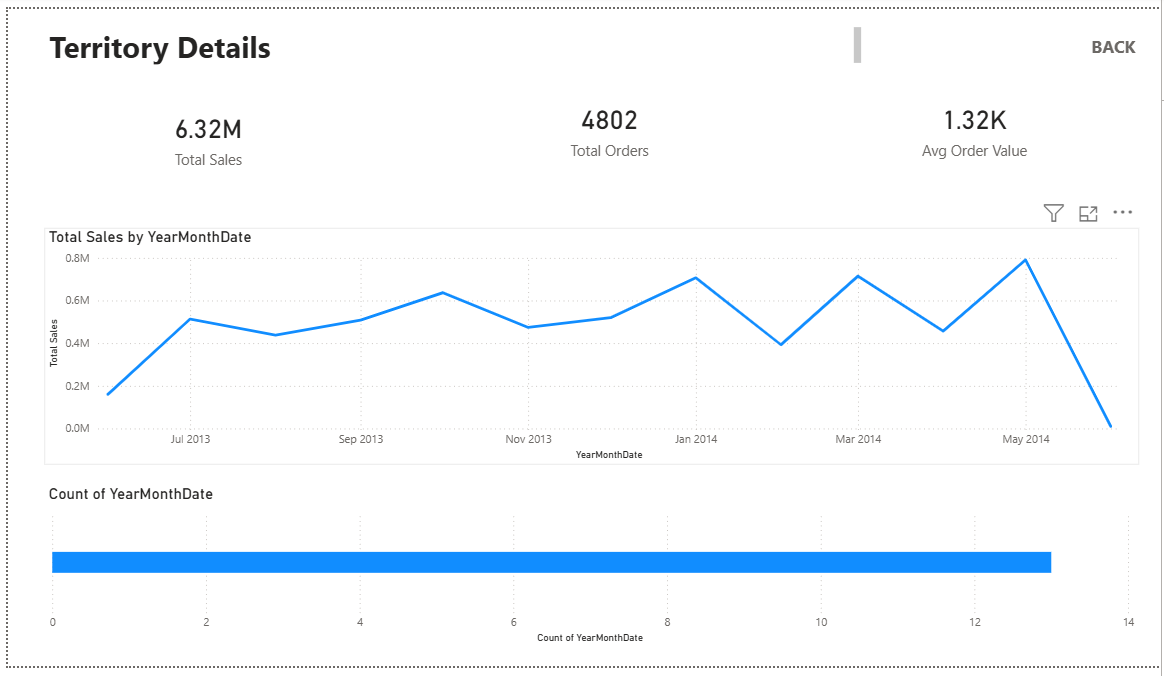

The page's visual inventory and layout, read from the dashboard file:
{"tool":"powerbi","page":{"name":"Territory Details","canvas":[1280,720],"ordinal":1},"visuals":[{"type":"actionButton","box":[1139.7,20.5,100,39.7],"z":0},{"type":"card","fields":{"Values":["Query1.Total Sales"]},"box":[40,75.5,360,130],"z":1000},{"type":"card","fields":{"Values":["Query1.Total Orders"]},"box":[480,65.9,360,130],"z":2000},{"type":"lineChart","fields":{"Category":["Query1.YearMonthDate"],"Y":["Query1.Total Sales"]},"box":[40,240,1200,260],"z":3000},{"type":"clusteredBarChart","fields":{"Y":["CountNonNull(Query1.YearMonthDate)"]},"box":[40,520,1200,180],"z":4000},{"type":"card","fields":{"Values":["Query1.Avg Order Value"]},"box":[880,66,360,130],"z":5000},{"type":"textbox","box":[39.7,15.1,900,50.7],"z":6000}]}

Visuals, with their boxes on the page's 1280x720 design canvas (x1, y1, x2, y2). These are canvas units, not pixel positions in the 1164x676 screenshot, which may show the page scaled, cropped or inside an application window:
actionButton: 1140, 20, 1240, 60
card - Query1.Total Sales: 40, 76, 400, 206
card - Query1.Total Orders: 480, 66, 840, 196
lineChart - Query1.YearMonthDate x Query1.Total Sales: 40, 240, 1240, 500
clusteredBarChart - CountNonNull(Query1.YearMonthDate): 40, 520, 1240, 700
card - Query1.Avg Order Value: 880, 66, 1240, 196
textbox: 40, 15, 940, 66
